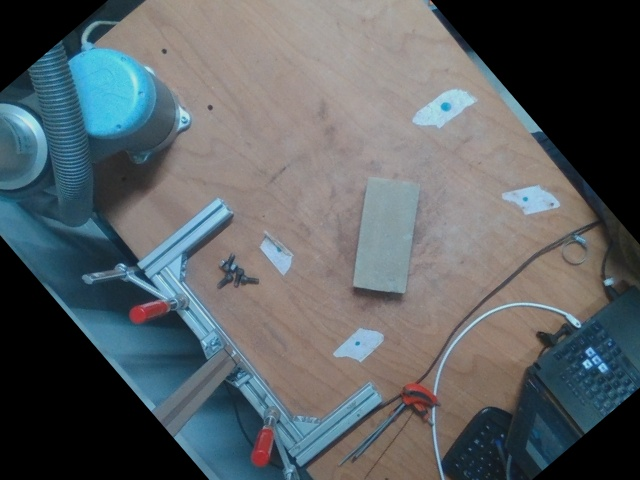brick: (354, 177, 418, 290)
